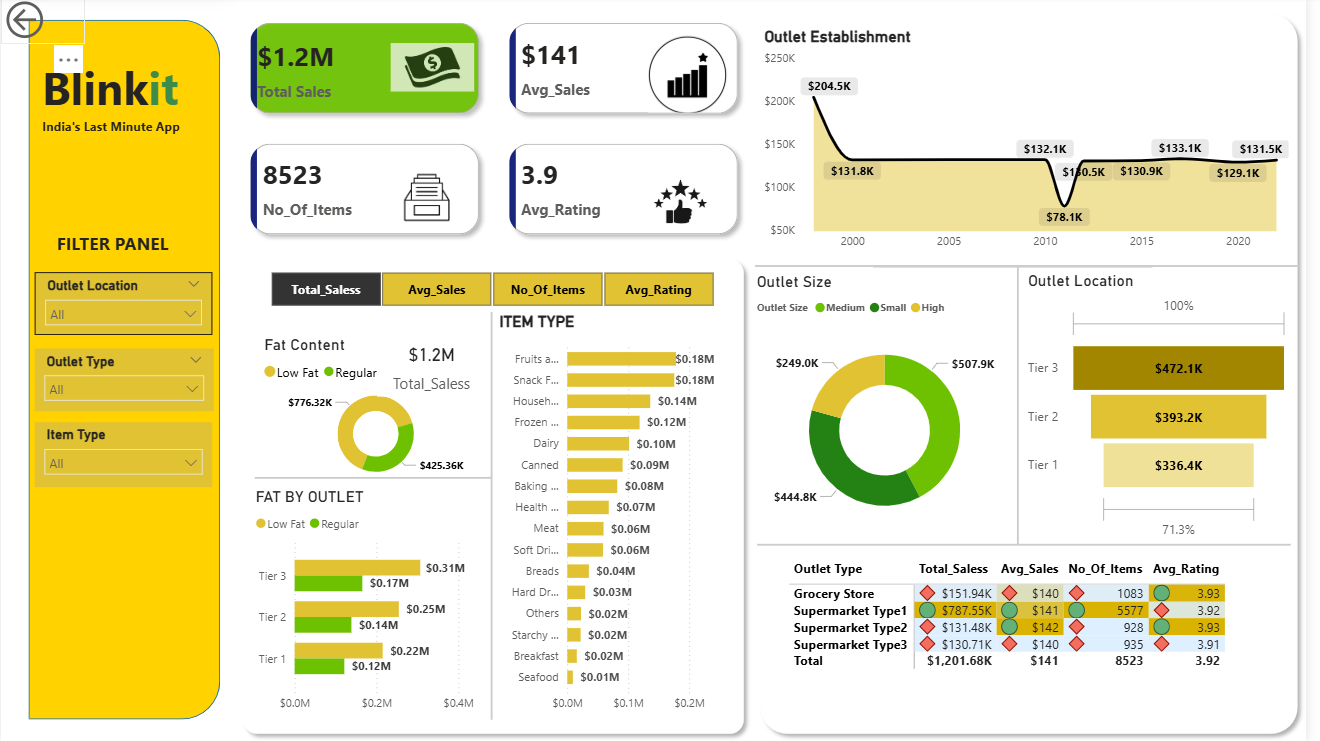

The page's visual inventory and layout, read from the dashboard file:
{"tool":"powerbi","page":{"name":"Page 1","canvas":[1400,800],"ordinal":0},"visuals":[{"type":"shape","box":[30,25.5,205.6,750.4],"z":0},{"type":"textbox","box":[39,60,189.1,82.5],"z":1000},{"type":"textbox","box":[18,126.1,189.1,31.5],"z":2000},{"type":"cardVisual","fields":{"Data":["Sum(BlinkIT Grocery Data.Total Sales)","BlinkIT Grocery Data.Avg_Sales","BlinkIT Grocery Data.No_Of_Items","BlinkIT Grocery Data.Avg_Rating"]},"box":[251.3,12.1,557.1,261.9],"z":3000},{"type":"shape","box":[250.7,273.5,555,526.8],"z":4000},{"type":"donutChart","title":"Fat Content","fields":{"Y":["BlinkIT Grocery Data.Total_Saless"],"Category":["BlinkIT Grocery Data.Item Fat Content"]},"box":[277.7,363.2,249.1,163.6],"z":5000},{"type":"clusteredBarChart","title":"FAT BY OUTLET","fields":{"Y":["BlinkIT Grocery Data.Total_Saless"],"Category":["BlinkIT Grocery Data.Outlet Location Type"],"Series":["BlinkIT Grocery Data.Item Fat Content"]},"box":[268.1,526.8,252,249.3],"z":6000},{"type":"barChart","title":"ITEM TYPE","fields":{"Y":["BlinkIT Grocery Data.Total_Saless"],"Category":["BlinkIT Grocery Data.Item Type"]},"box":[529.8,339.2,258.1,436.8],"z":7000},{"type":"actionButton","box":[0,0,89.8,50.9],"z":8000},{"type":"slicer","fields":{"Values":["Metries.Metries"]},"box":[264.2,289.7,523.8,49.5],"z":9000},{"type":"card","fields":{"Values":["BlinkIT Grocery Data.Total_Saless"]},"box":[403.7,363.2,117.1,66],"z":10000},{"type":"shape","box":[805.6,10.7,593.8,789.5],"z":11000},{"type":"lineChart","title":"Outlet Establishment ","fields":{"Category":["BlinkIT Grocery Data.Outlet Establishment Year"],"Y":["Sum(BlinkIT Grocery Data.Total Sales)"]},"box":[813.7,33.5,572.4,248],"z":12000},{"type":"shape","box":[272.1,506.7,253.4,20.1],"z":13000},{"type":"shape","box":[512.1,339.1,28.2,437],"z":14000},{"type":"shape","box":[808.3,284.2,584.5,10.7],"z":15000},{"type":"donutChart","title":"Outlet Size","fields":{"Category":["BlinkIT Grocery Data.Outlet Size"],"Y":["Sum(BlinkIT Grocery Data.Total Sales)"]},"box":[805.6,296.2,284.2,292.2],"z":16000},{"type":"shape","box":[1084.5,289.5,12.1,298.9],"z":17000},{"type":"funnel","title":"Outlet Location","fields":{"Category":["BlinkIT Grocery Data.Outlet Location Type"],"Y":["Sum(BlinkIT Grocery Data.Total Sales)"]},"box":[1096.5,294.9,289.5,293.6],"z":18000},{"type":"shape","box":[811,540.2,572.4,96.5],"z":19000},{"type":"pivotTable","fields":{"Rows":["BlinkIT Grocery Data.Outlet Type"],"Values":["BlinkIT Grocery Data.Total_Saless","BlinkIT Grocery Data.Avg_Sales","BlinkIT Grocery Data.No_Of_Items","BlinkIT Grocery Data.Avg_Rating"]},"box":[840.5,599.2,510.7,176.9],"z":20000},{"type":"slicer","fields":{"Values":["BlinkIT Grocery Data.Outlet Location Type"]},"box":[36.2,296.2,190.3,67],"z":21000},{"type":"shape","box":[935.7,237.3,298.9,105.9],"z":22000},{"type":"slicer","fields":{"Values":["BlinkIT Grocery Data.Outlet Type"]},"box":[36.2,378,191.7,67],"z":23000},{"type":"slicer","fields":{"Values":["BlinkIT Grocery Data.Item Type"]},"box":[36.2,457.1,190.3,69.7],"z":24000},{"type":"textbox","box":[55,248,136.7,41.6],"z":25000}]}

Visuals, with their boxes on the page's 1400x800 design canvas (x1, y1, x2, y2). These are canvas units, not pixel positions in the 1320x741 screenshot, which may show the page scaled, cropped or inside an application window:
shape: region(30, 26, 236, 776)
textbox: region(39, 60, 228, 142)
textbox: region(18, 126, 207, 158)
cardVisual - Sum(BlinkIT Grocery Data.Total Sales) x BlinkIT Grocery Data.Avg_Sales: region(251, 12, 808, 274)
shape: region(251, 274, 806, 800)
"Fat Content" donutChart: region(278, 363, 527, 527)
"FAT BY OUTLET" clusteredBarChart: region(268, 527, 520, 776)
"ITEM TYPE" barChart: region(530, 339, 788, 776)
actionButton: region(0, 0, 90, 51)
slicer - Metries.Metries: region(264, 290, 788, 339)
card - BlinkIT Grocery Data.Total_Saless: region(404, 363, 521, 429)
shape: region(806, 11, 1399, 800)
"Outlet Establishment " lineChart: region(814, 34, 1386, 282)
shape: region(272, 507, 526, 527)
shape: region(512, 339, 540, 776)
shape: region(808, 284, 1393, 295)
"Outlet Size" donutChart: region(806, 296, 1090, 588)
shape: region(1084, 290, 1097, 588)
"Outlet Location" funnel: region(1096, 295, 1386, 588)
shape: region(811, 540, 1383, 637)
pivotTable - BlinkIT Grocery Data.Outlet Type x BlinkIT Grocery Data.Total_Saless: region(840, 599, 1351, 776)
slicer - BlinkIT Grocery Data.Outlet Location Type: region(36, 296, 226, 363)
shape: region(936, 237, 1235, 343)
slicer - BlinkIT Grocery Data.Outlet Type: region(36, 378, 228, 445)
slicer - BlinkIT Grocery Data.Item Type: region(36, 457, 226, 527)
textbox: region(55, 248, 192, 290)
